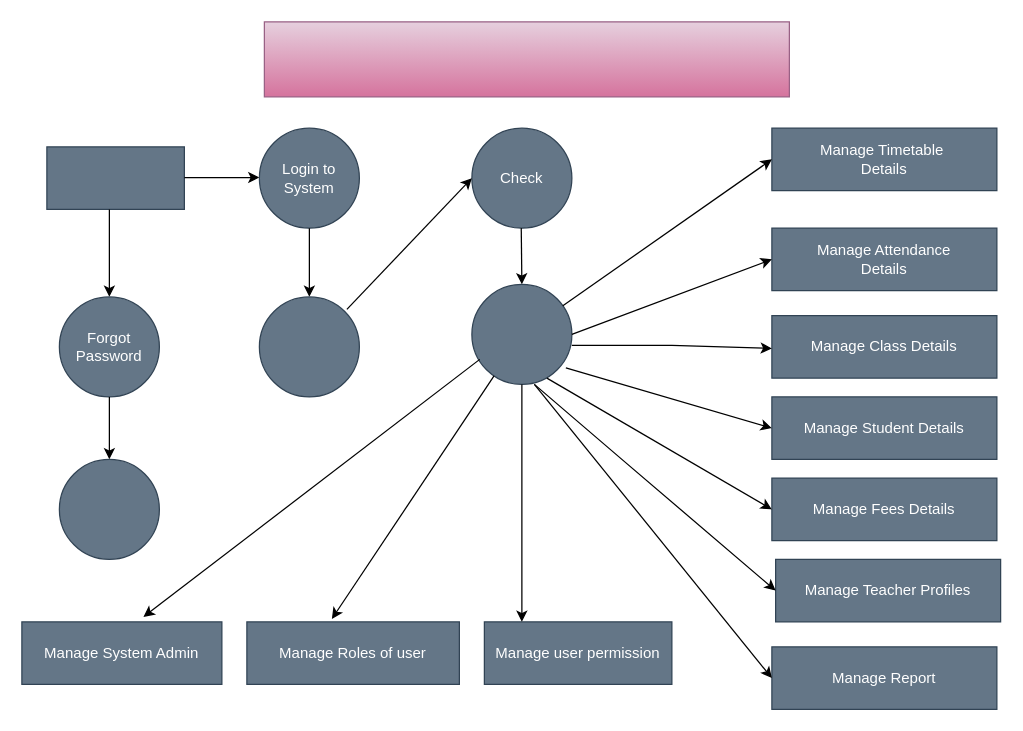
Some shapes in this 1023 by 731 pixel diagram are drawn without their labels. The shapes that lost their labels are listed below. From the top down, each one's centre as x and y in pixels, then its label:
At [115,177]: "Admin".
At [308,346]: "Check Credentials".
At [521,333]: "Manage Modules".
At [108,508]: "Send Email to users".
